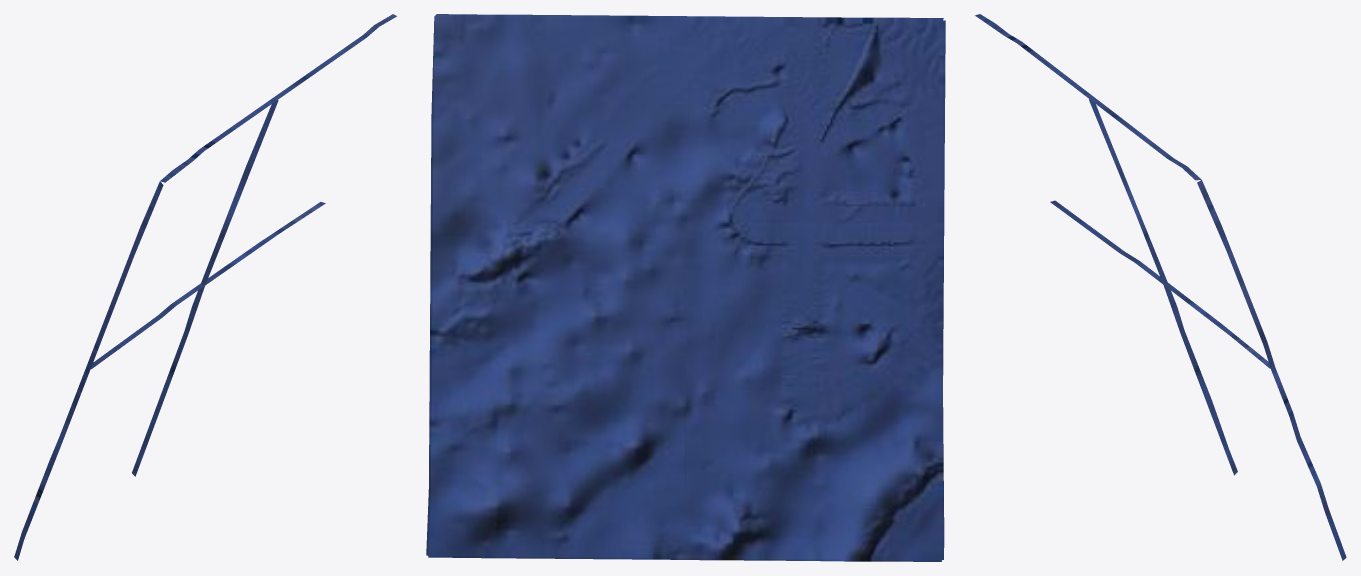
3 views of the same model, side by side, from view 1: azimuth 30°, elevation 25°; view 2: azimuth 150°, elevation 25°; view 3: azimuth 270°, elevation 25° (orthographic). The views are drawn at different scales.
Size of the model in its own units: 156007 by 148544 by 120867.
1 material, 1 textured.
